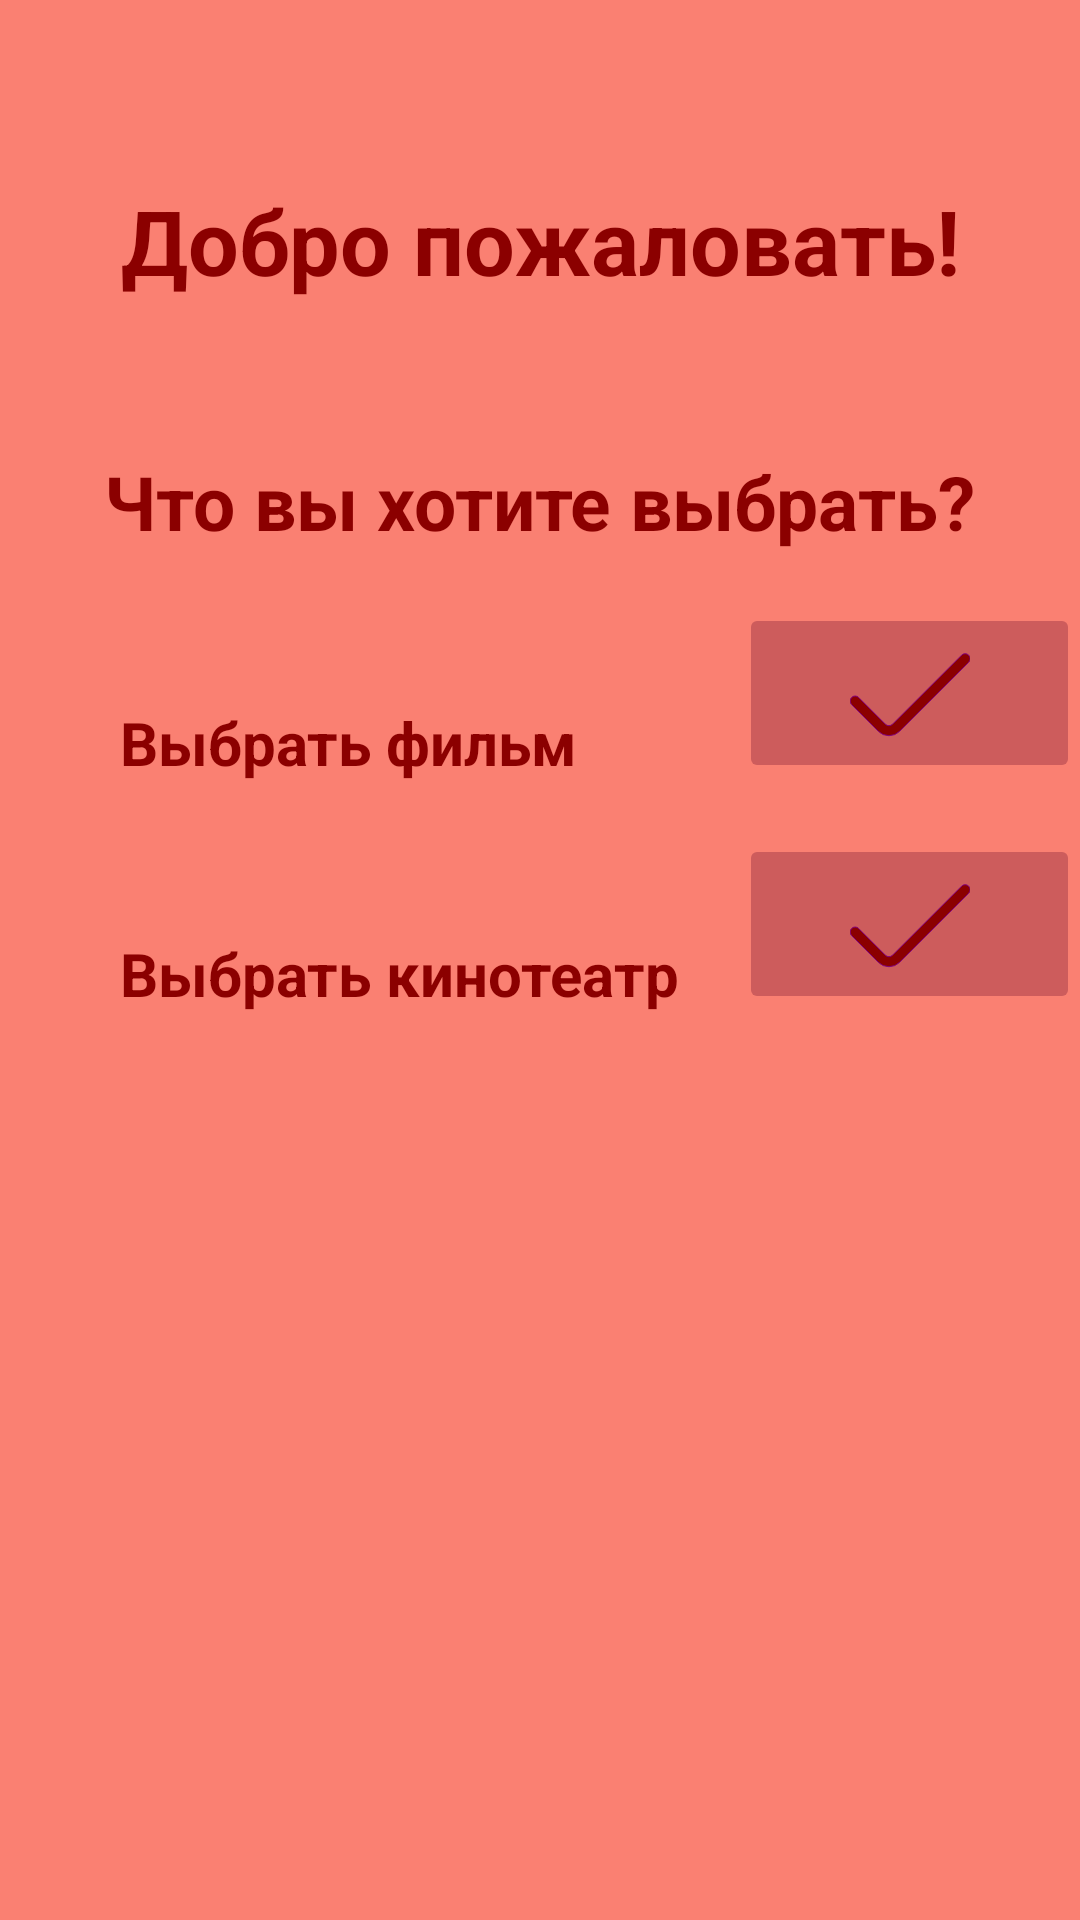

Screen size 1080 x 1920. Icon name, then its center in pixels as (x,y):
free font check: (909,693), (909,924)
